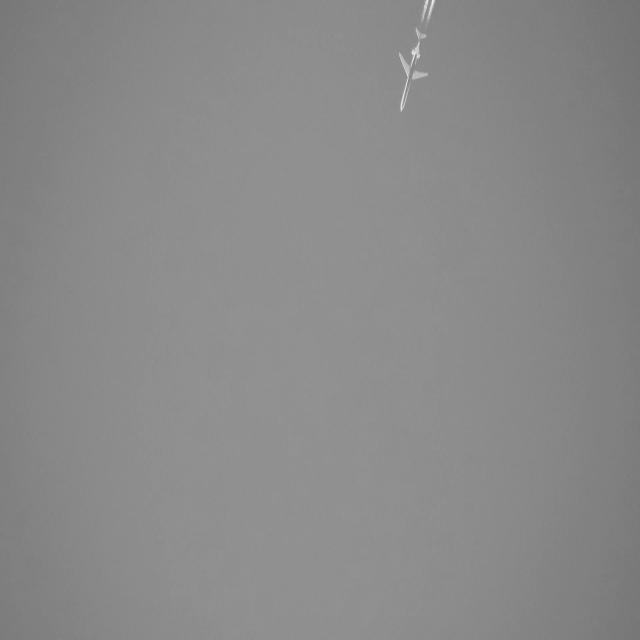aeroplane: (396, 29, 431, 116)
